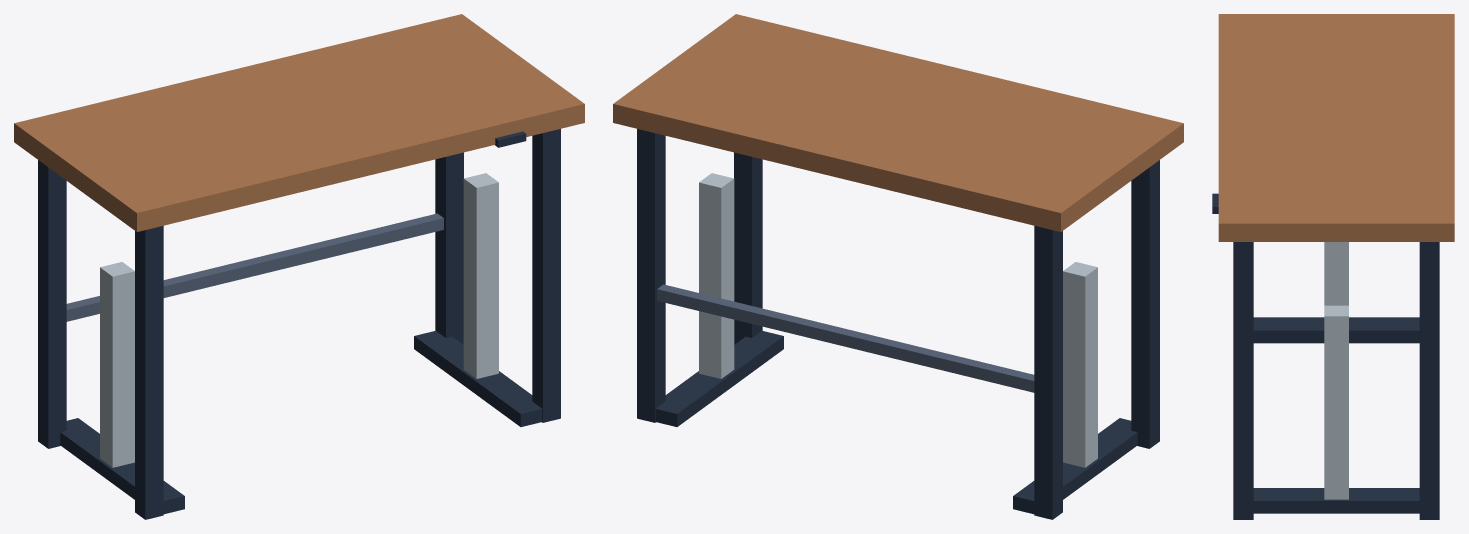
File: officeStandingDesk.glb
3 views of the same model, side by side, from view 1: azimuth 30°, elevation 25°; view 2: azimuth 150°, elevation 25°; view 3: azimuth 270°, elevation 25° (orthographic). The views are drawn at different scales.
Size of the model in its own units: 1.6 by 1.08 by 0.78.
